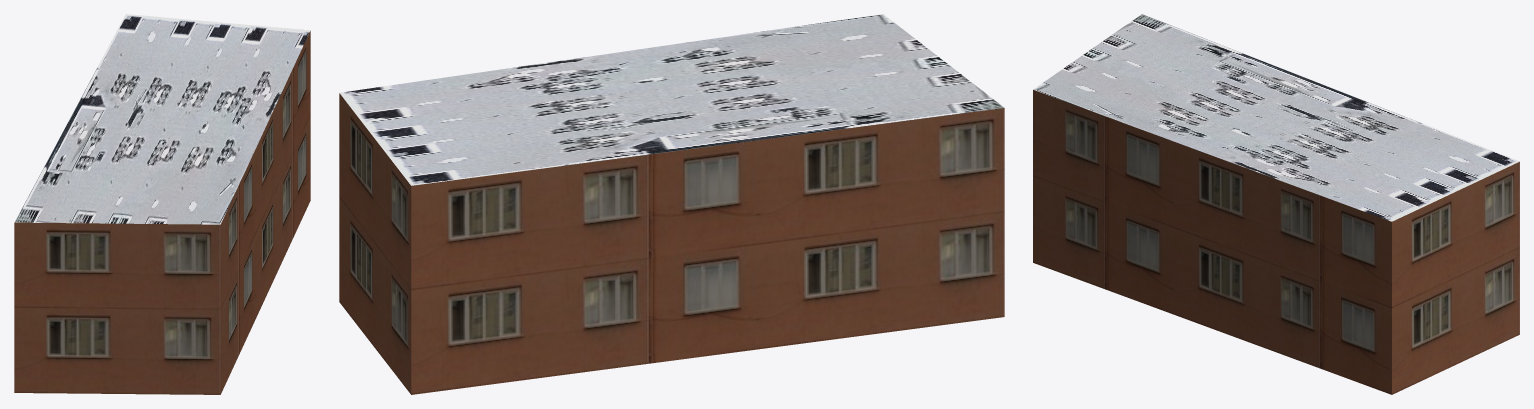
File: ResTex__2778.fbx
The picture shows the model from 3 angles, left to right: view 1: azimuth 30°, elevation 25°; view 2: azimuth 150°, elevation 25°; view 3: azimuth 270°, elevation 25°; orthographic projection. The views are drawn at different scales.
Parts seen in each view (by area): view 1: CityEngineMaterial_20_m, CityEngineMaterial_4_m; view 2: CityEngineMaterial_20_m, CityEngineMaterial_4_m; view 3: CityEngineMaterial_20_m, CityEngineMaterial_4_m.
Boxes of the visible parts, <box> form: CityEngineMaterial_20_m: <box>14,31,310,394</box>; CityEngineMaterial_4_m: <box>14,14,310,224</box>; CityEngineMaterial_20_m: <box>339,93,1004,394</box>; CityEngineMaterial_4_m: <box>339,14,1004,185</box>; CityEngineMaterial_20_m: <box>1033,90,1519,394</box>; CityEngineMaterial_4_m: <box>1033,14,1519,221</box>.
Bounding box in the file's own units: 15.45 × 6 × 15.3.
Materials: 2 (2 with a texture image).
